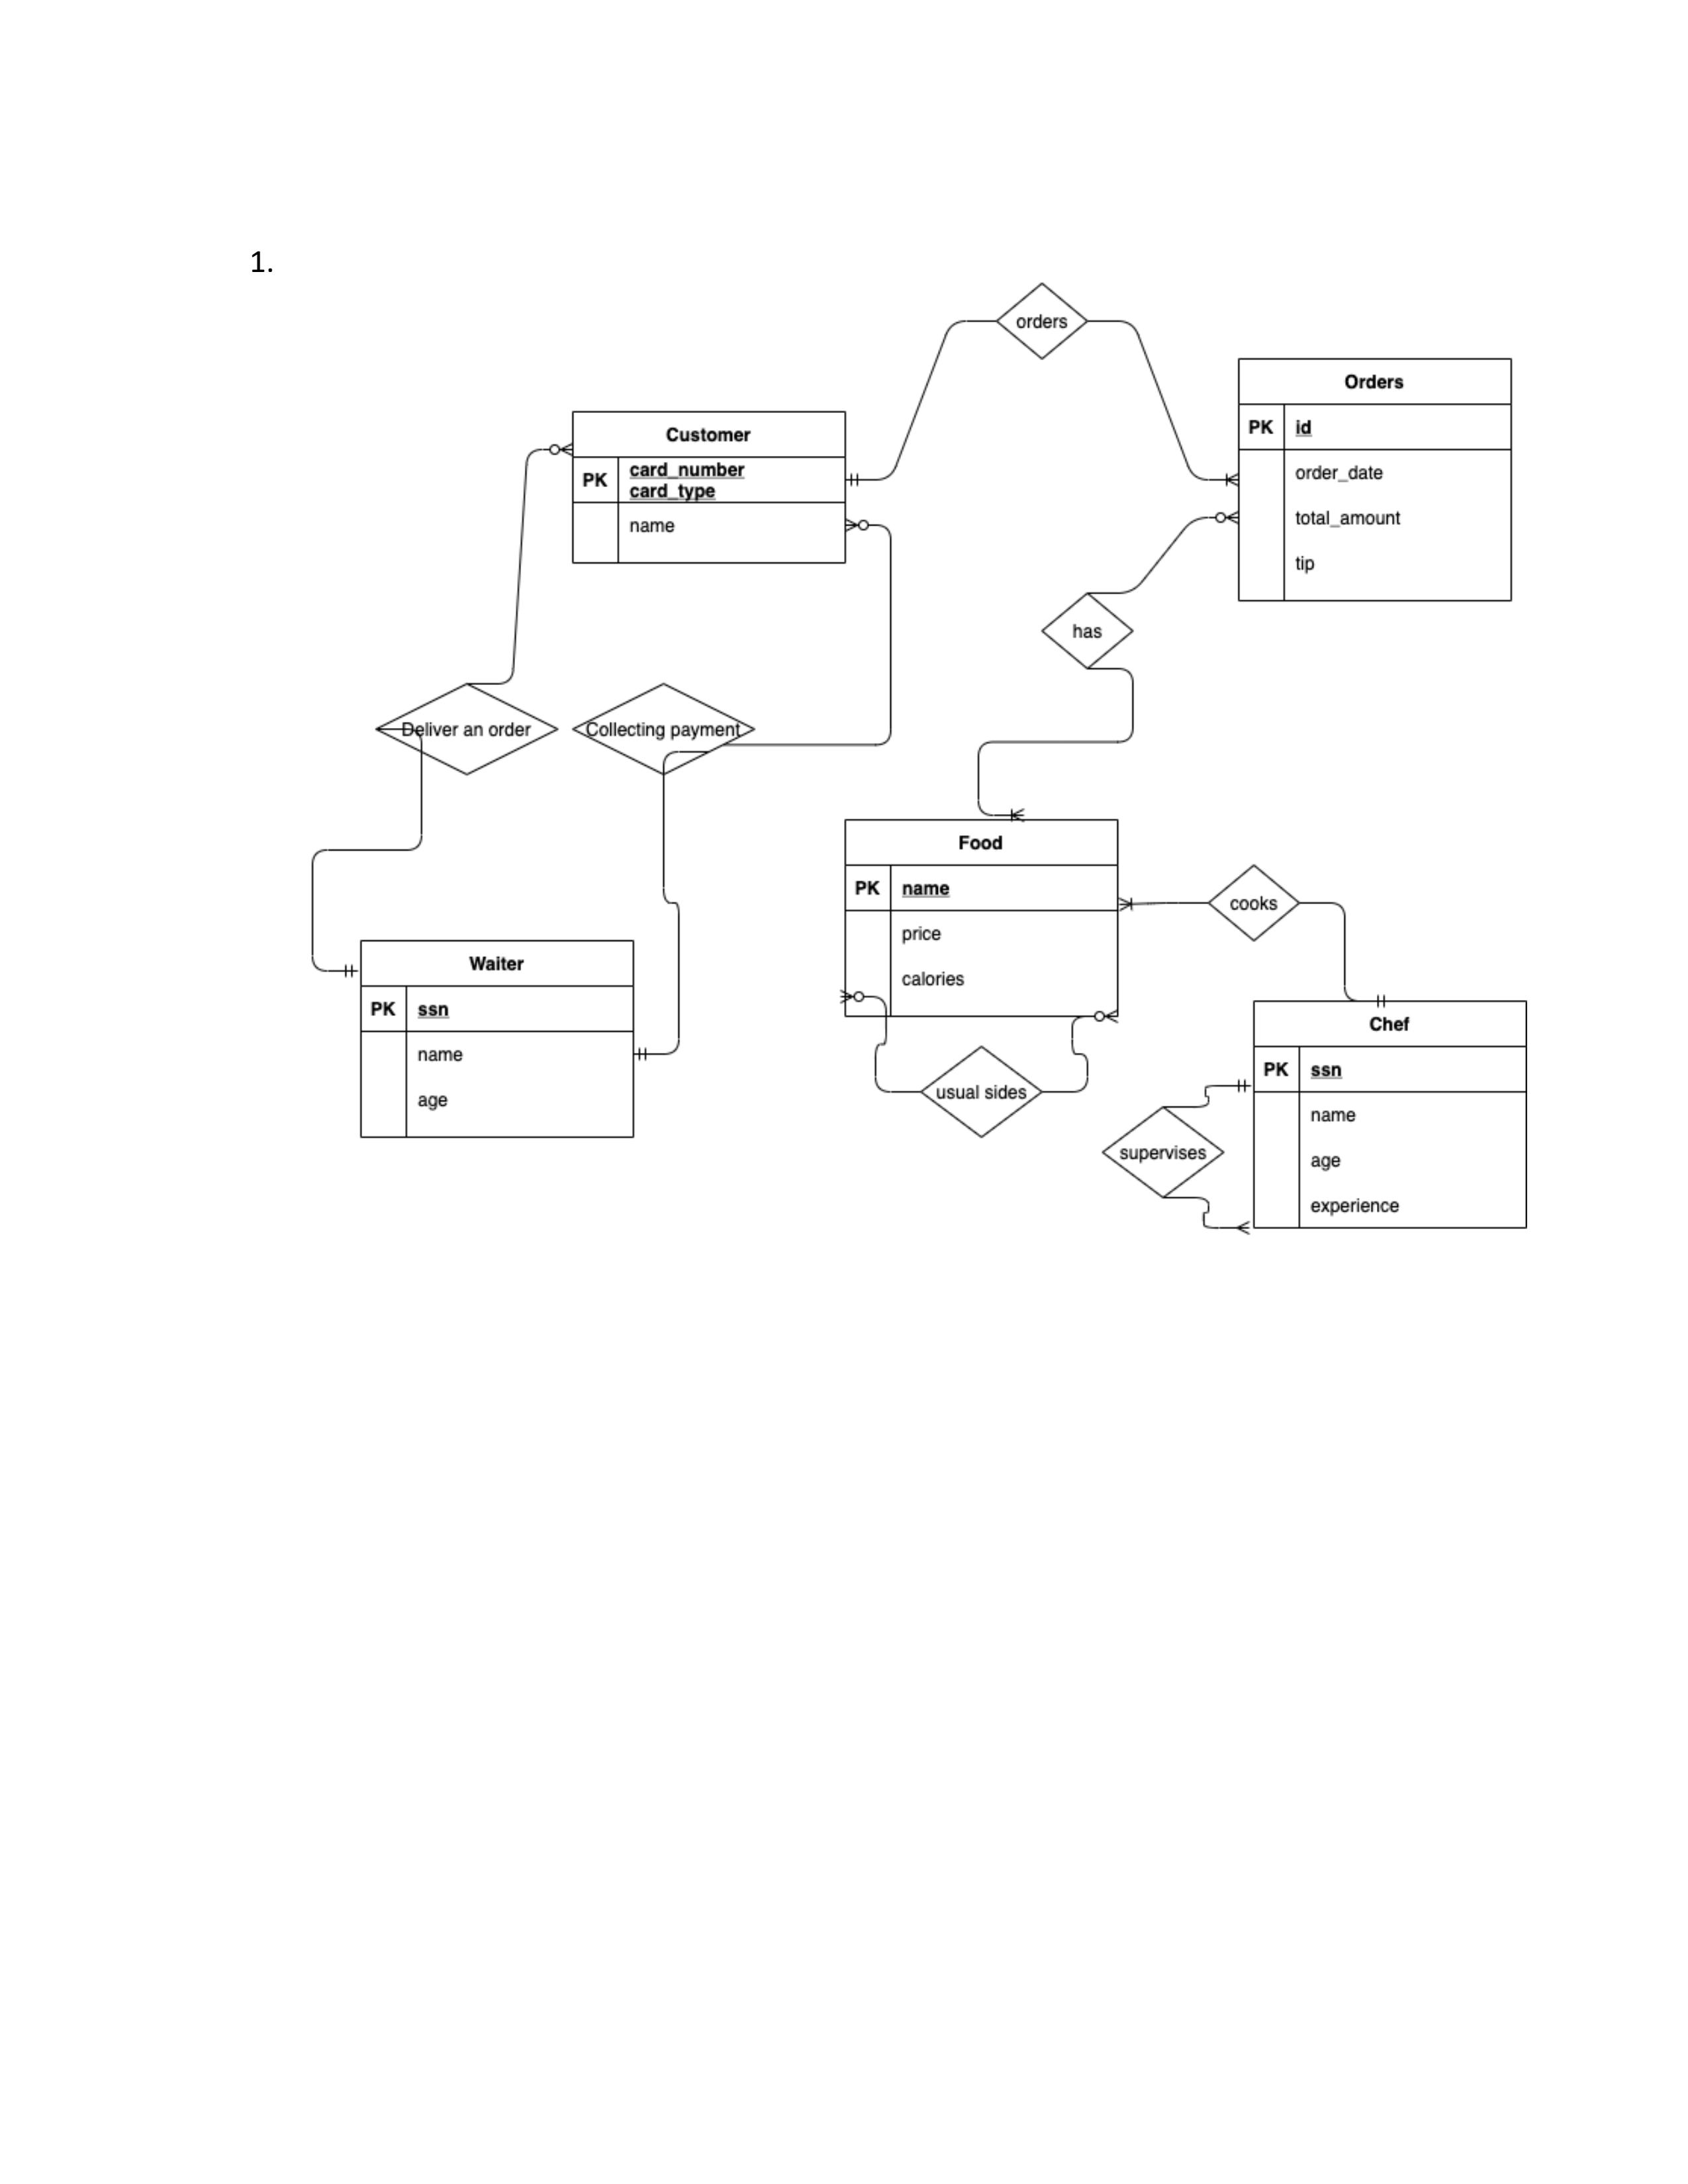Entity: (1236, 356, 1514, 603), (1252, 1000, 1528, 1230), (842, 817, 1121, 1019), (360, 938, 637, 1140), (571, 409, 848, 565)
Relationship: (573, 682, 757, 775), (376, 682, 559, 775), (920, 1044, 1043, 1140), (1101, 1106, 1225, 1198), (996, 282, 1089, 360), (1041, 592, 1135, 668), (1207, 865, 1300, 941)
